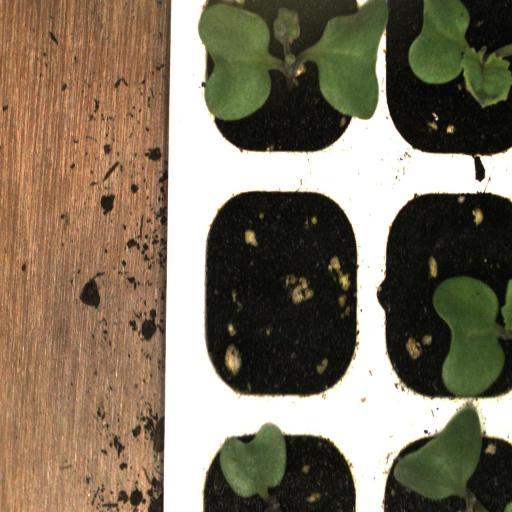Folha: (303, 0, 390, 120), (394, 407, 482, 503), (219, 425, 287, 499)
Germinacao: (190, 0, 368, 168)
